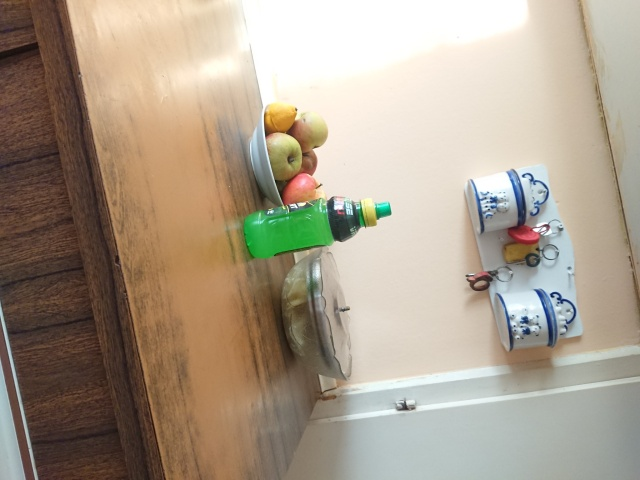Vindi Iso Sport Lemon-Grapefruit 500mL: (240, 195, 394, 262)
